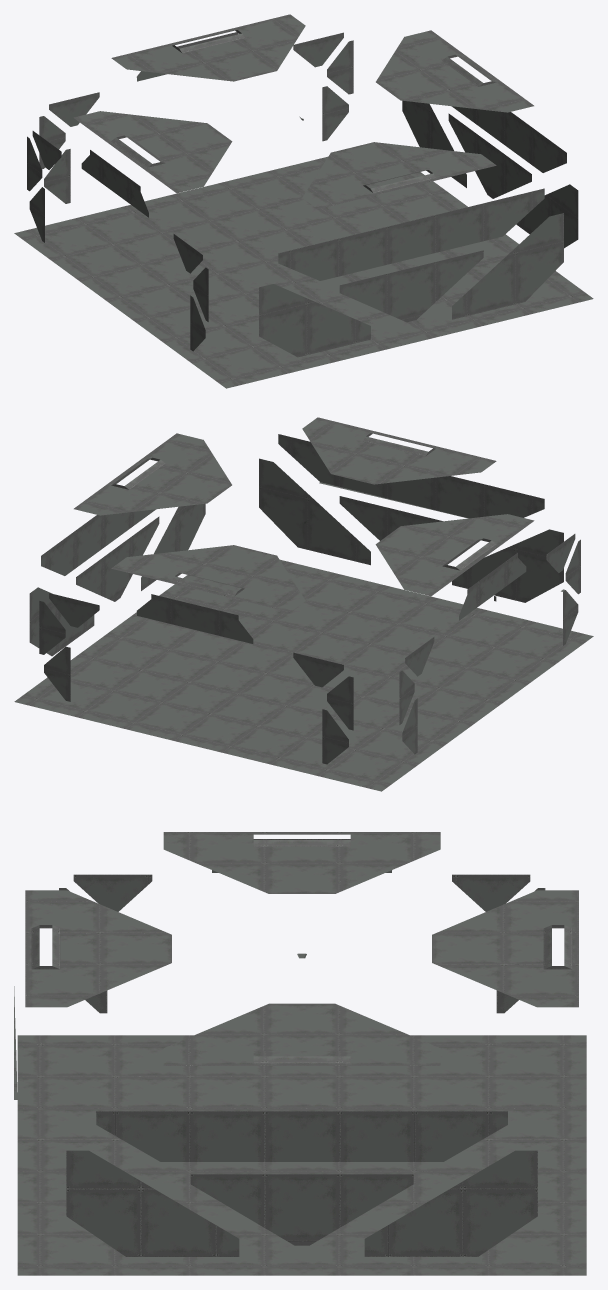
The picture shows the model from 3 angles, top to bottom: view 1: azimuth 30°, elevation 25°; view 2: azimuth 150°, elevation 25°; view 3: azimuth 270°, elevation 25°; orthographic projection. The views are drawn at different scales.
Parts seen in each view (by area): view 1: Corner1_1; view 2: Corner1_1; view 3: Corner1_1.
Boxes of the visible parts, box(x1,y1,x2,y2) form: Corner1_1: box(14, 14, 593, 388); Corner1_1: box(14, 417, 593, 791); Corner1_1: box(14, 832, 586, 1275).
Bounding box in the file's own units: 10.61 × 3.94 × 9.85.
